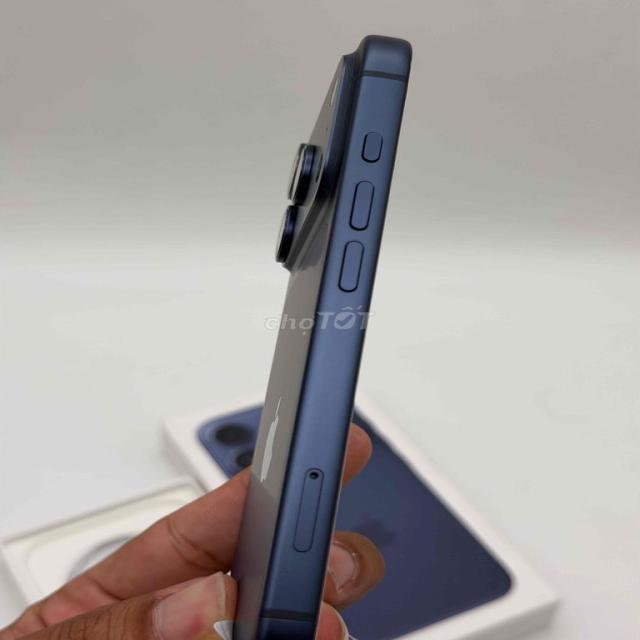gen_17: (212, 30, 460, 640)
